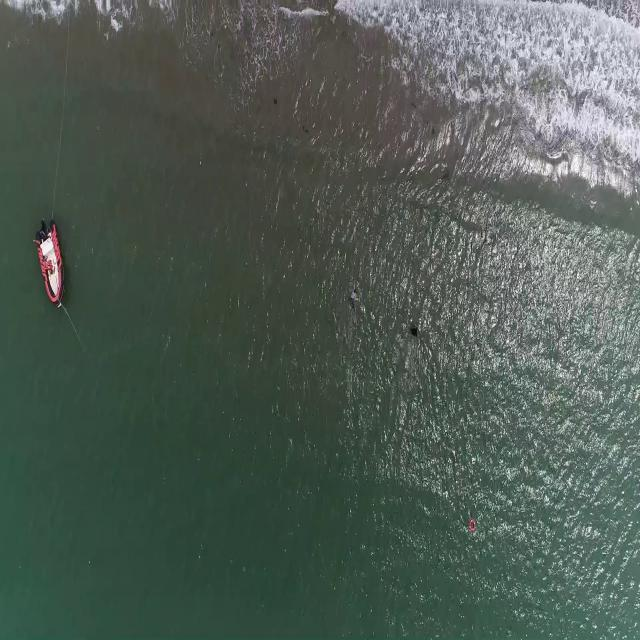boat: (34, 218, 64, 306)
life_buoy: (469, 516, 477, 532)
person: (349, 283, 362, 311), (410, 320, 419, 339)
